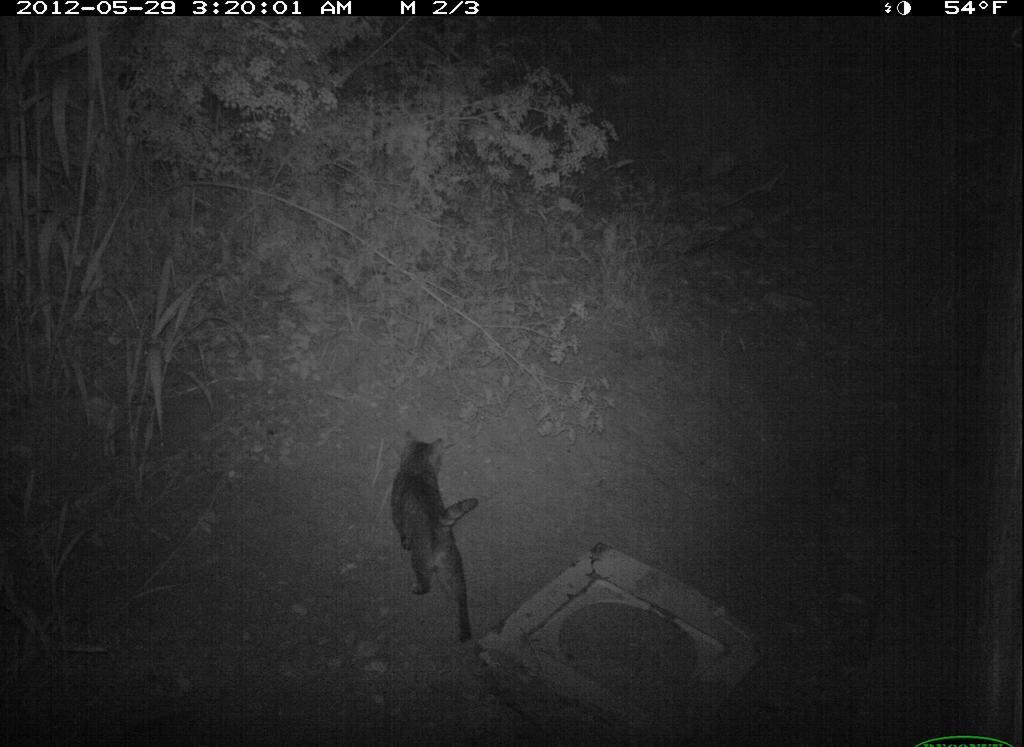cat: (388, 427, 498, 647)
